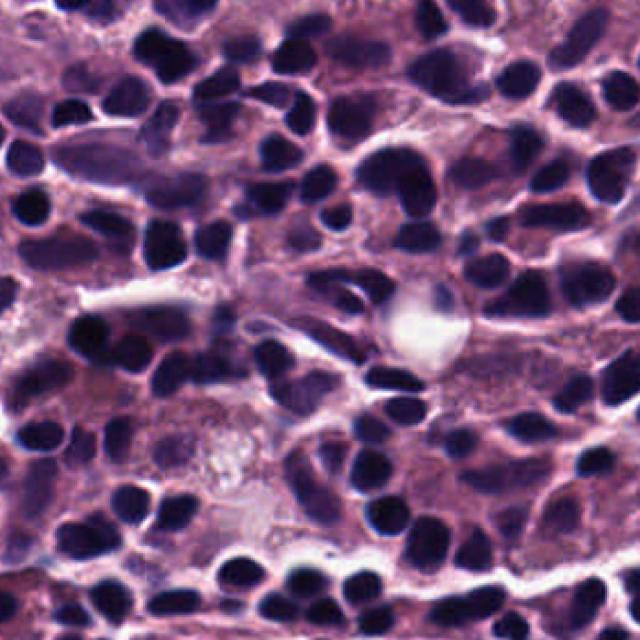fibroblast: (299, 302, 376, 359)
lymphocyte: (402, 39, 484, 98), (0, 347, 73, 411), (543, 0, 607, 66), (127, 21, 194, 80), (321, 87, 383, 142), (482, 272, 550, 320), (389, 151, 435, 217), (136, 210, 185, 267), (442, 146, 502, 192), (185, 94, 240, 142), (526, 144, 578, 192), (559, 254, 605, 308), (512, 196, 587, 228), (546, 76, 596, 124), (59, 309, 108, 357), (145, 489, 193, 537), (359, 487, 411, 530), (581, 144, 623, 197), (345, 441, 389, 491), (248, 329, 292, 379), (501, 405, 561, 441), (9, 412, 62, 452), (101, 68, 147, 114), (83, 572, 127, 620), (383, 212, 440, 249), (292, 158, 334, 208), (402, 516, 442, 567), (185, 212, 231, 256), (348, 258, 394, 302), (488, 55, 537, 96), (596, 350, 633, 404), (449, 519, 490, 567), (359, 357, 420, 389), (348, 149, 398, 188), (501, 117, 537, 171), (237, 171, 286, 210), (143, 581, 202, 613), (253, 130, 301, 169), (598, 64, 640, 108), (213, 553, 259, 592), (114, 329, 154, 373), (79, 204, 134, 235), (260, 37, 315, 68), (106, 480, 147, 521), (279, 564, 325, 599), (354, 596, 394, 636), (460, 583, 501, 622), (550, 373, 587, 416), (145, 350, 180, 395), (347, 407, 392, 441), (253, 583, 295, 619), (185, 69, 240, 96), (464, 252, 510, 283), (427, 587, 460, 628), (310, 201, 352, 233), (218, 28, 253, 64), (301, 594, 337, 629), (48, 96, 94, 123), (336, 572, 381, 599), (576, 443, 616, 473), (488, 610, 528, 640), (286, 89, 314, 130), (50, 599, 86, 629), (376, 396, 425, 418), (242, 75, 282, 101), (446, 423, 479, 453)
plasma_cell: (271, 452, 339, 521), (534, 576, 594, 638)
unlabeled: (48, 135, 134, 174), (161, 341, 248, 377), (262, 373, 339, 412), (48, 514, 116, 556), (114, 300, 191, 336), (479, 212, 546, 252), (17, 455, 53, 521), (202, 293, 242, 347), (143, 98, 180, 155), (455, 348, 523, 379), (143, 171, 202, 206), (145, 427, 194, 468), (541, 489, 578, 542), (458, 464, 534, 487), (304, 258, 345, 299), (101, 412, 132, 464), (64, 423, 95, 471), (55, 57, 101, 87), (488, 505, 523, 539), (446, 224, 473, 249)
